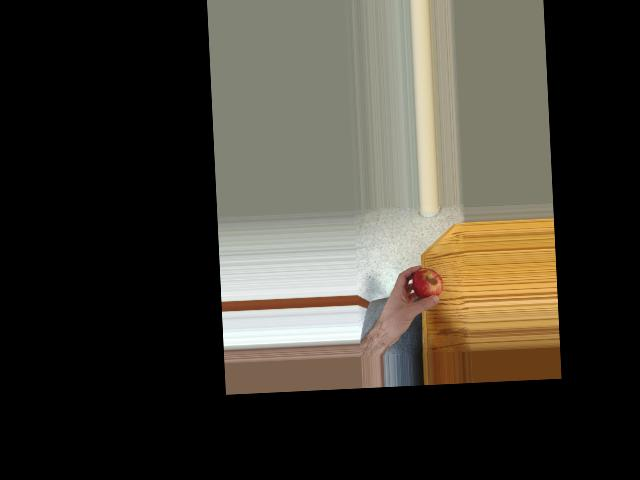apple: (410, 265, 444, 303)
